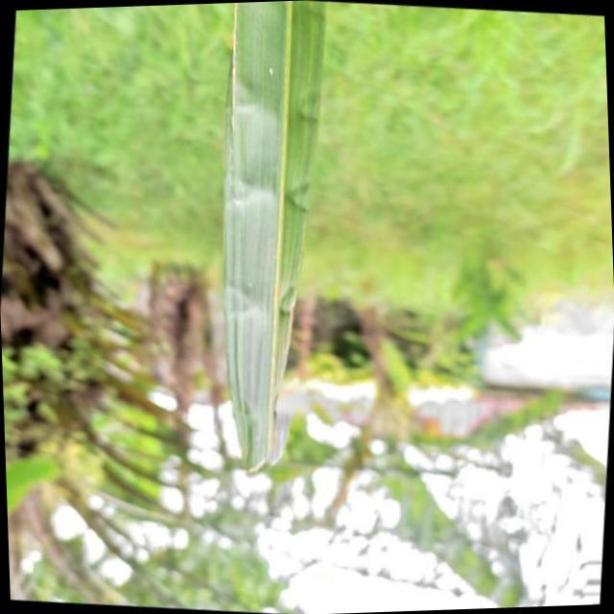Boron: (227, 0, 327, 473)
